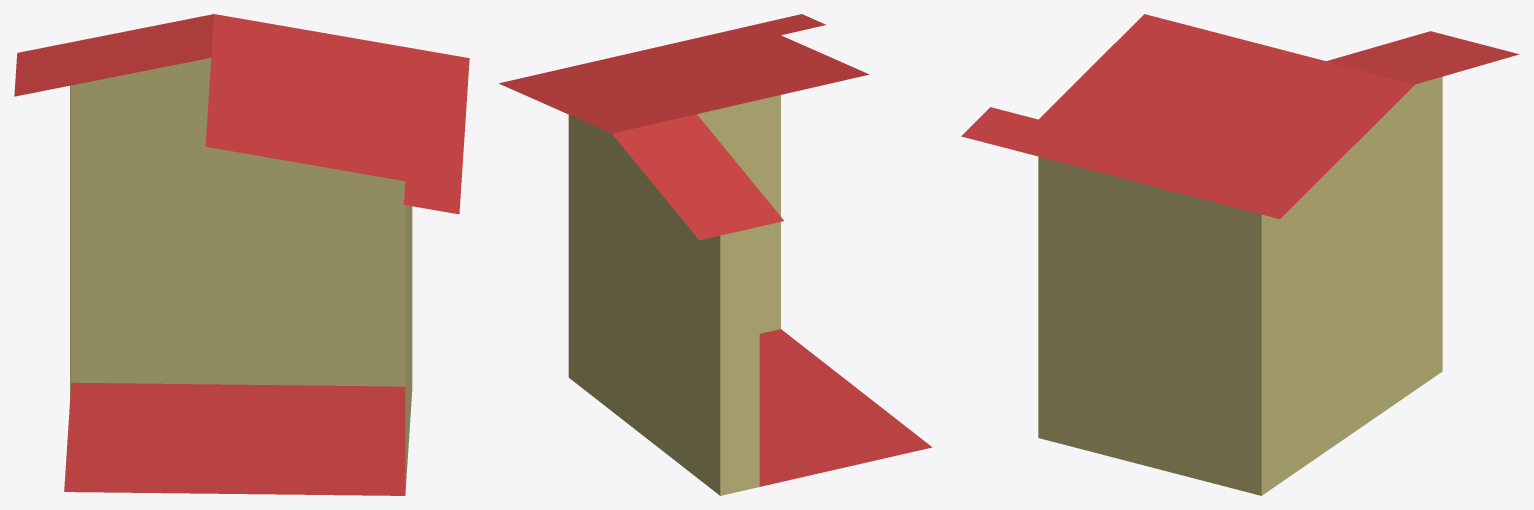
3 renders of one model, left to right at view 1: azimuth 30°, elevation 25°; view 2: azimuth 150°, elevation 25°; view 3: azimuth 270°, elevation 25°, orthographic. The views are drawn at different scales.
Size of the model in its own units: 13.56 by 14.89 by 10.32.
